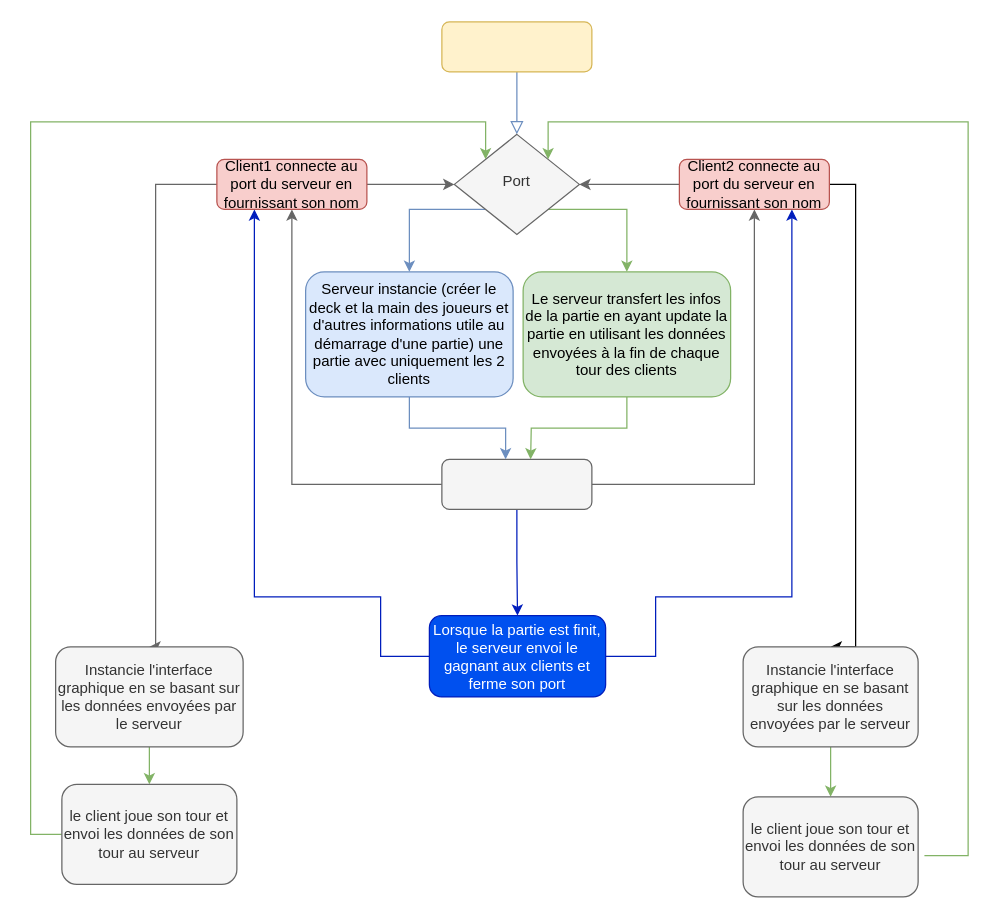
Some shapes in this 1000 by 919 pixel diagram are drawn without their labels. Here are the shapes that lost their labels. From the top down, the centre of each, then its label:
At point (516, 46): "Serveur ouvre son port".
At point (516, 483): "Le serveur envoi les données aux clients".
